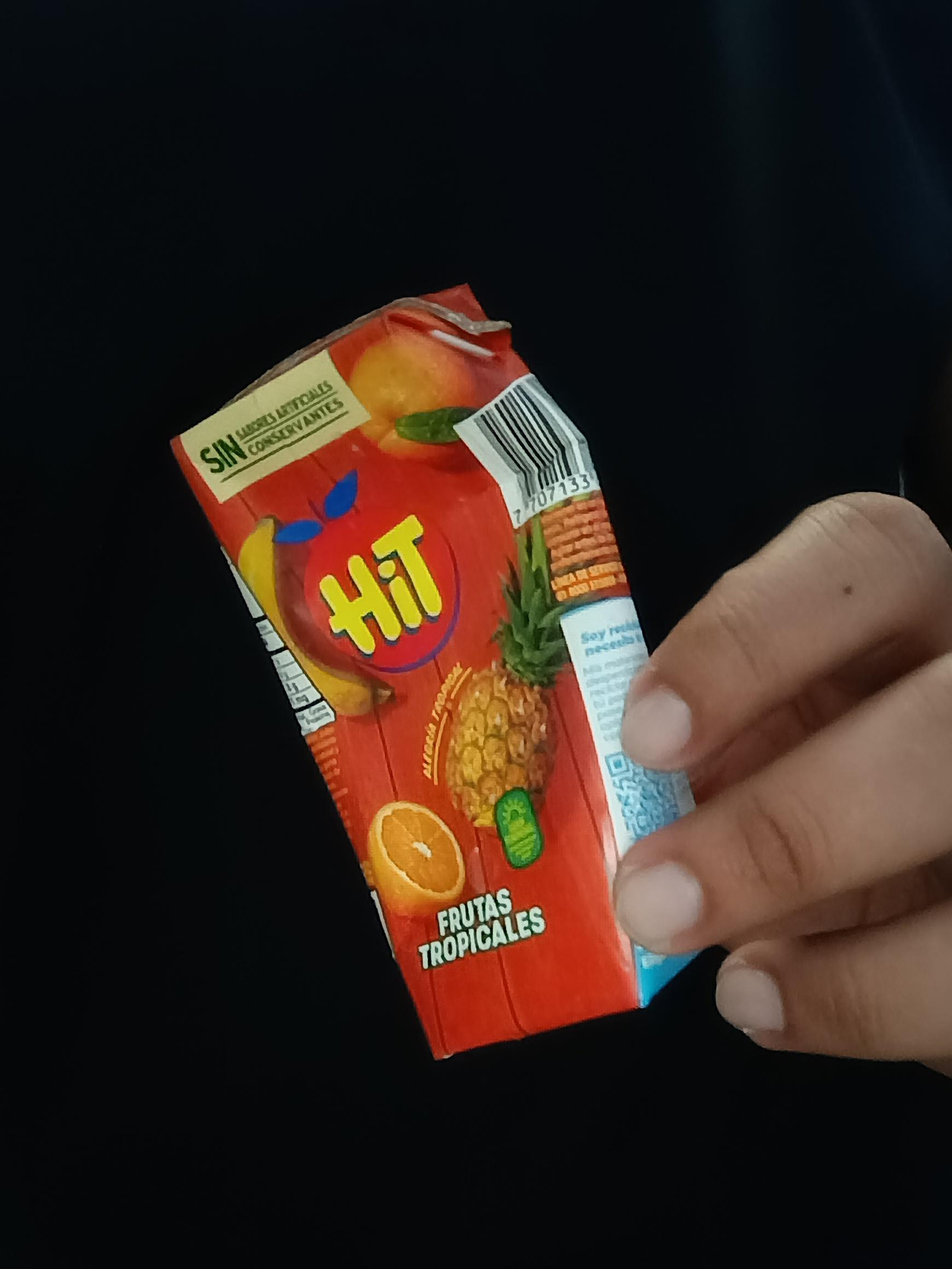Carton: (168, 280, 705, 1064)
